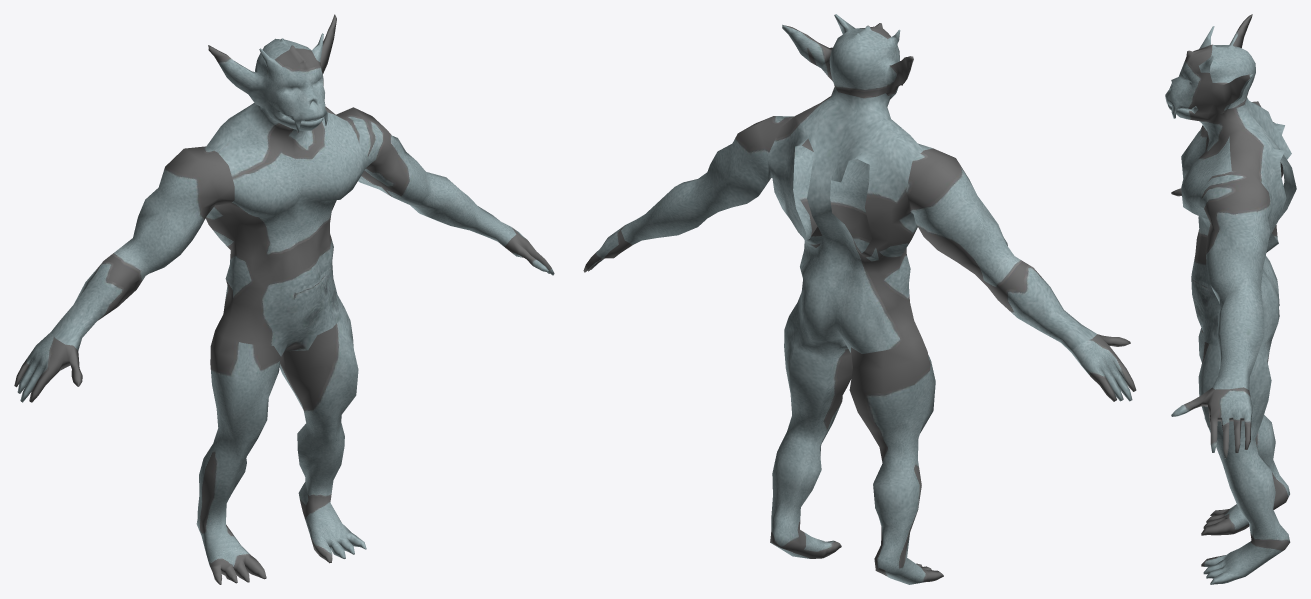
The model's file is GargolaCuerpo.obj.
3 views of the same model, side by side, from view 1: azimuth 30°, elevation 25°; view 2: azimuth 150°, elevation 25°; view 3: azimuth 270°, elevation 25° (orthographic). The views are drawn at different scales.
Visible parts, largest first — view 1: Gargoyle_Body; view 2: Gargoyle_Body; view 3: Gargoyle_Body.
Boxes of the visible parts, <box> form: Gargoyle_Body: <box>14,14,554,584</box>; Gargoyle_Body: <box>583,14,1136,584</box>; Gargoyle_Body: <box>1165,14,1296,584</box>.
Size of the model in its own units: 67.47 by 64.05 by 14.97.
Materials: 1 (1 with a texture image).
